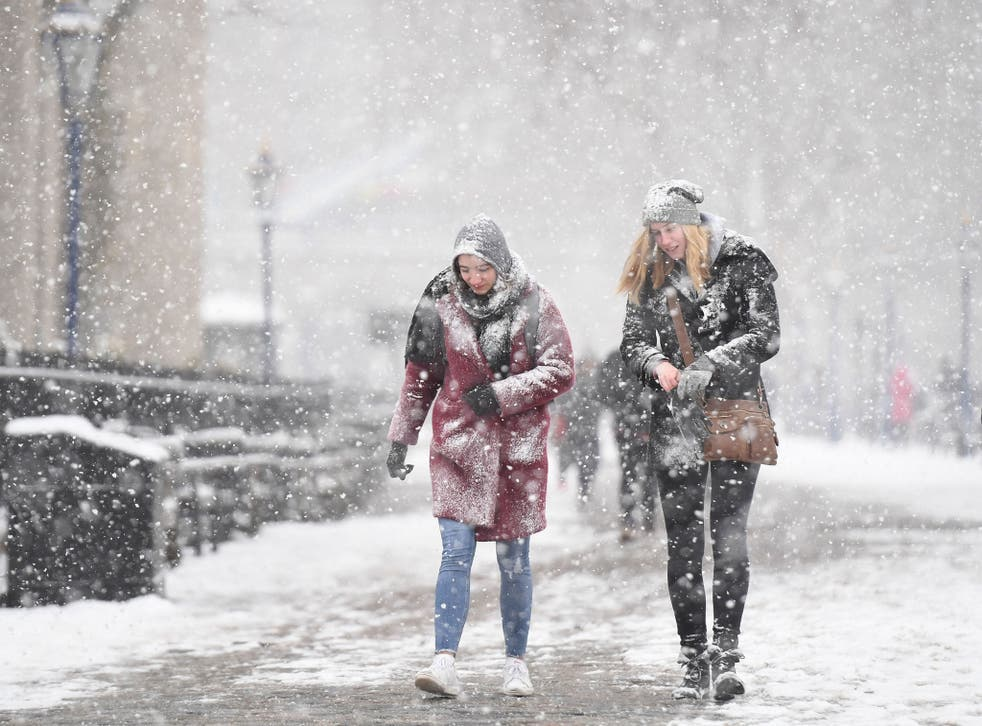person: (387, 216, 571, 700), (622, 180, 779, 705)
